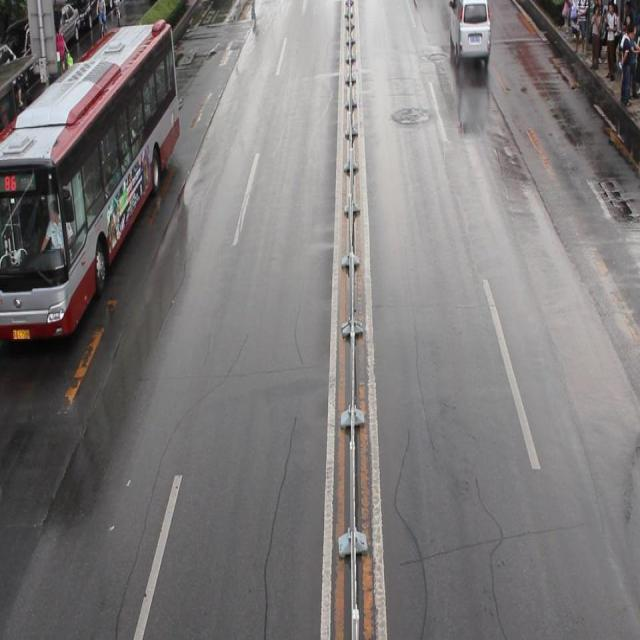truck: (448, 1, 491, 64)
van: (1, 16, 179, 340)
